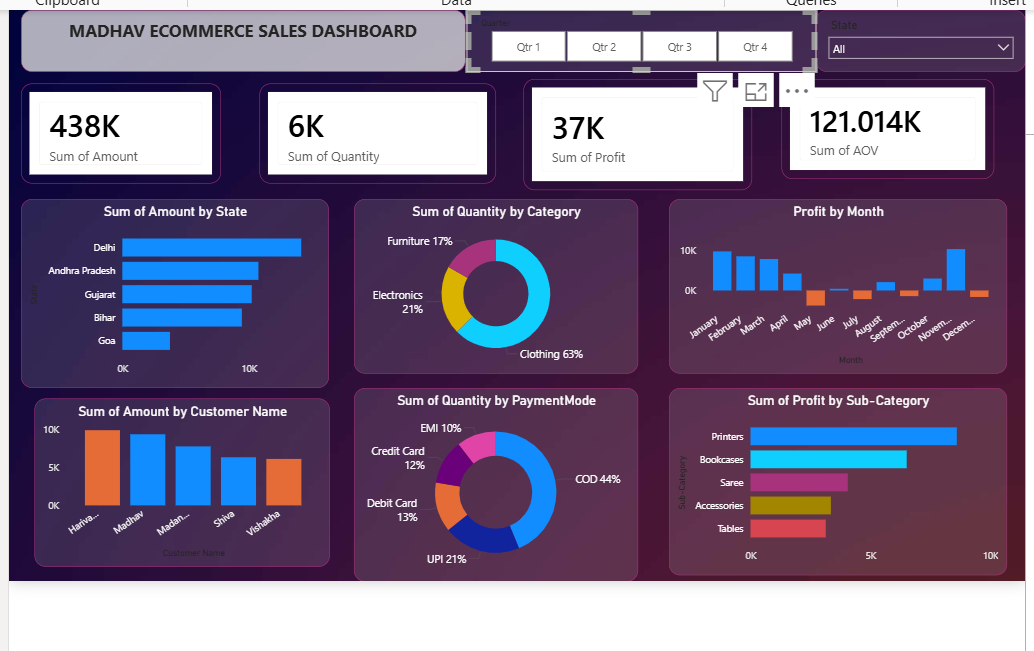

The dashboard page shown, as its layout file describes it:
{"tool":"powerbi","page":{"name":"Page 1","canvas":[1280,720],"ordinal":0},"visuals":[{"type":"textbox","box":[16,0,560,78],"z":0},{"type":"columnChart","title":"Profit by Month","fields":{"Category":["Orders (1).Order Date.Variation.Date Hierarchy.Month"],"Y":["Sum(Details.Profit)"]},"box":[832,238,426,220],"z":1},{"type":"clusteredBarChart","fields":{"Category":["Details.Sub-Category"],"Y":["Sum(Details.Profit)"]},"box":[832,476,426,236],"z":2},{"type":"donutChart","fields":{"Category":["Details.Category"],"Y":["Sum(Details.Quantity)"]},"box":[434,238,358,220],"z":3},{"type":"donutChart","fields":{"Category":["Details.PaymentMode"],"Y":["Sum(Details.Quantity)"]},"box":[434,476,358,244],"z":4},{"type":"cardVisual","fields":{"Data":["Sum(Details.Amount)"]},"box":[16,92,252,126],"z":5},{"type":"cardVisual","fields":{"Data":["Sum(Details.Quantity)"]},"box":[316,92,298,126],"z":6},{"type":"cardVisual","fields":{"Data":["Sum(Details.Profit)"]},"box":[648,86,288,140],"z":7},{"type":"cardVisual","fields":{"Data":["Sum(Details.AOV)"]},"box":[974,86,268,126],"z":8},{"type":"clusteredBarChart","fields":{"Category":["Orders (1).State"],"Y":["Sum(Details.Amount)"]},"box":[16,238,388,238],"z":9},{"type":"columnChart","fields":{"Category":["Orders (1).Customer Name"],"Y":["Sum(Details.Amount)"]},"box":[32,490,372,212],"z":10},{"type":"slicer","fields":{"Values":["Orders (1).Order Date.Variation.Date Hierarchy.Quarter"]},"box":[576,0,440,78],"z":11},{"type":"slicer","fields":{"Values":["Orders (1).State"]},"box":[1016,0,264,78],"z":12}]}

Visuals, with their boxes on the page's 1280x720 design canvas (x1, y1, x2, y2). These are canvas units, not pixel positions in the 1034x651 screenshot, which may show the page scaled, cropped or inside an application window:
textbox: [left=16, top=0, right=576, bottom=78]
"Profit by Month" columnChart: [left=832, top=238, right=1258, bottom=458]
clusteredBarChart - Details.Sub-Category x Sum(Details.Profit): [left=832, top=476, right=1258, bottom=712]
donutChart - Details.Category x Sum(Details.Quantity): [left=434, top=238, right=792, bottom=458]
donutChart - Details.PaymentMode x Sum(Details.Quantity): [left=434, top=476, right=792, bottom=720]
cardVisual - Sum(Details.Amount): [left=16, top=92, right=268, bottom=218]
cardVisual - Sum(Details.Quantity): [left=316, top=92, right=614, bottom=218]
cardVisual - Sum(Details.Profit): [left=648, top=86, right=936, bottom=226]
cardVisual - Sum(Details.AOV): [left=974, top=86, right=1242, bottom=212]
clusteredBarChart - Orders (1).State x Sum(Details.Amount): [left=16, top=238, right=404, bottom=476]
columnChart - Orders (1).Customer Name x Sum(Details.Amount): [left=32, top=490, right=404, bottom=702]
slicer - Orders (1).Order Date.Variation.Date Hierarchy.Quarter: [left=576, top=0, right=1016, bottom=78]
slicer - Orders (1).State: [left=1016, top=0, right=1280, bottom=78]
